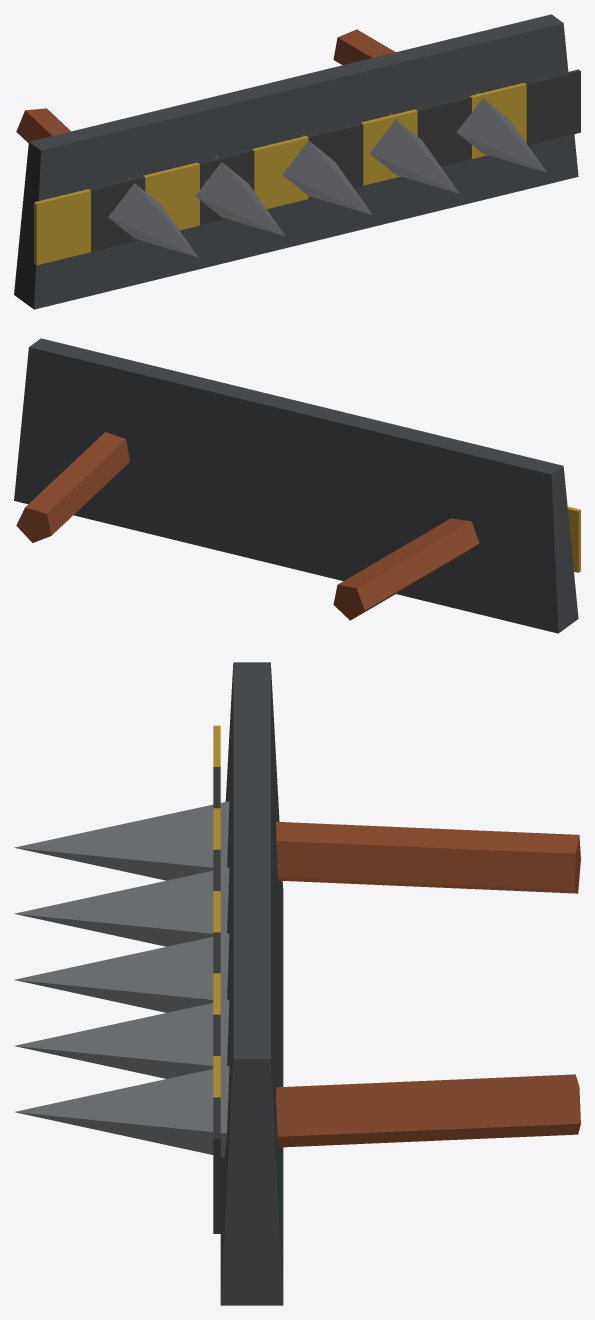
File: upg_ram_t3.glb
The picture shows the model from 3 angles, top to bottom: view 1: azimuth 30°, elevation 25°; view 2: azimuth 150°, elevation 25°; view 3: azimuth 270°, elevation 25°; orthographic projection. The views are drawn at different scales.
Visible parts, largest first — view 1: ram; view 2: ram; view 3: ram.
Part boxes in pixels (x1,y1,x2,y2): ram: [14, 14, 580, 309]; ram: [14, 338, 580, 633]; ram: [14, 662, 580, 1305].
Bounding box in the file's own units: 1.56 × 0.42 × 0.905.
